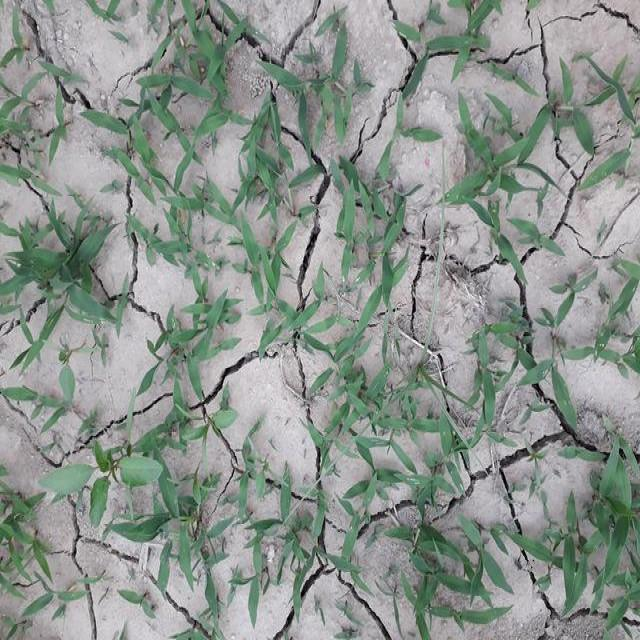weed: (216, 114, 386, 296), (338, 444, 488, 619), (548, 383, 638, 624), (0, 217, 118, 340), (105, 80, 202, 196), (140, 318, 208, 431), (38, 456, 161, 517), (444, 122, 516, 222)
